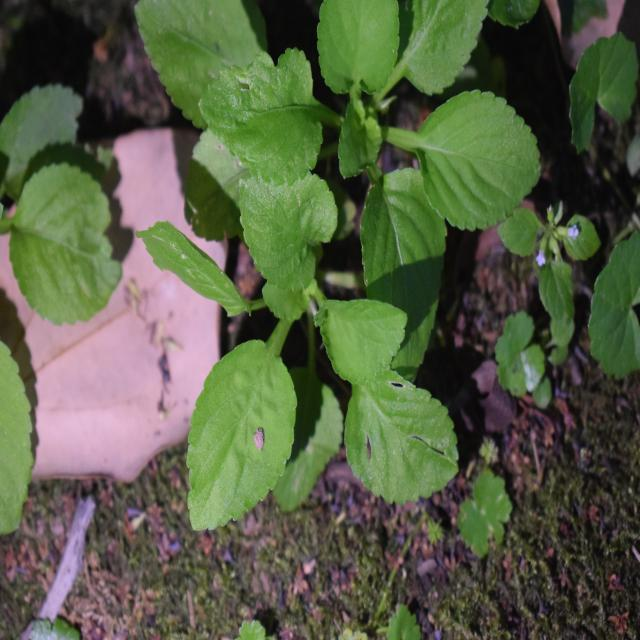Viola: (182, 154, 472, 512), (177, 0, 518, 272)
